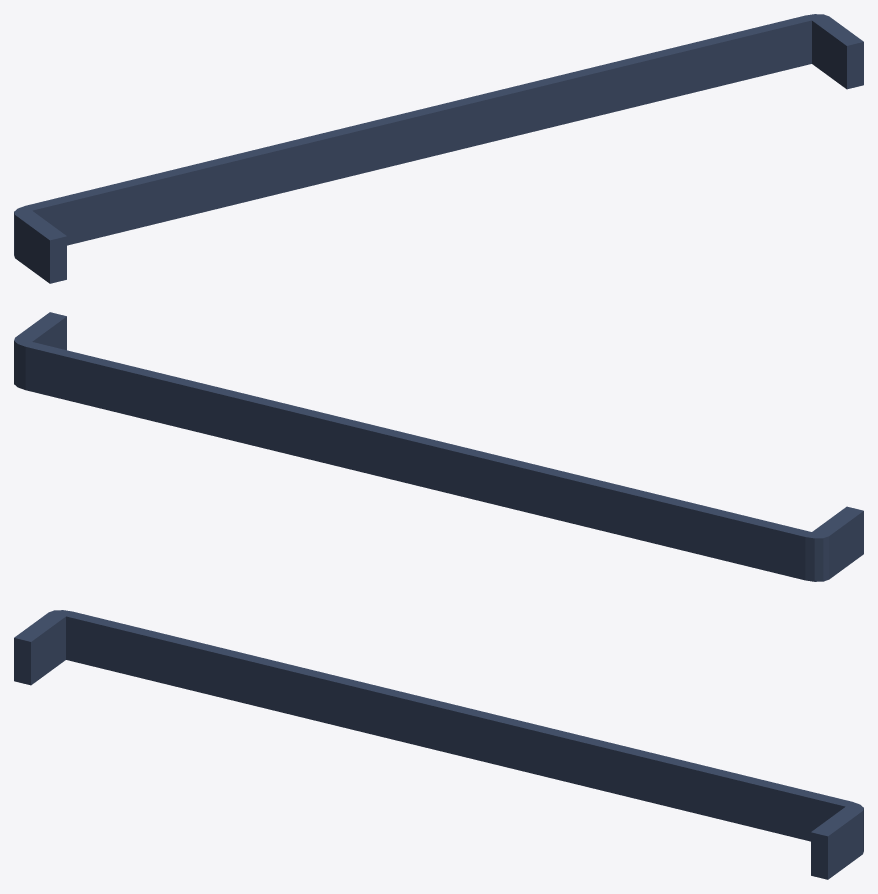
The model's file is cube.049_lev3.glb.
3 views of the same model, one above another, from view 1: azimuth 30°, elevation 25°; view 2: azimuth 150°, elevation 25°; view 3: azimuth 330°, elevation 25° (orthographic).
Parts seen in each view (by area): view 1: cube.049_lev3; view 2: cube.049_lev3; view 3: cube.049_lev3.
Boxes of the visible parts, bbox=[...] form: cube.049_lev3: bbox=[14, 14, 863, 283]; cube.049_lev3: bbox=[14, 312, 863, 581]; cube.049_lev3: bbox=[14, 610, 863, 879].
Bounding box in the file's own units: 0.9448 × 0.0482 × 0.0837.
